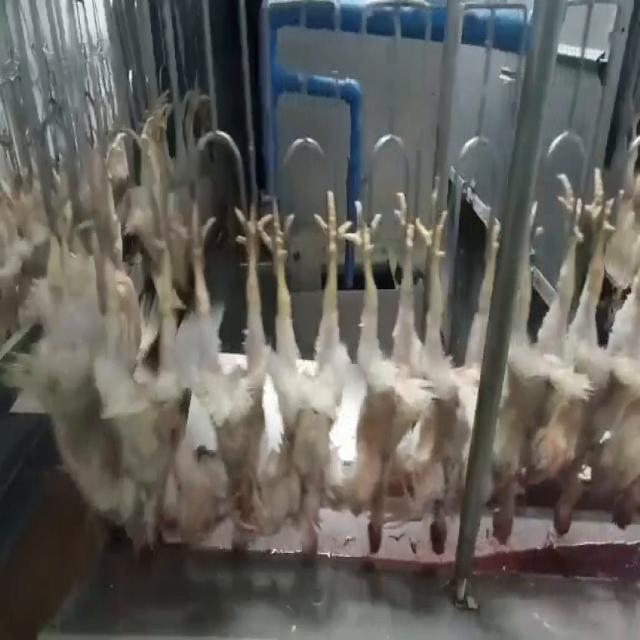chicken: (60, 206, 171, 553), (163, 195, 270, 554), (483, 163, 578, 545), (397, 176, 485, 560), (338, 188, 422, 562), (267, 182, 346, 574), (586, 173, 640, 536)
